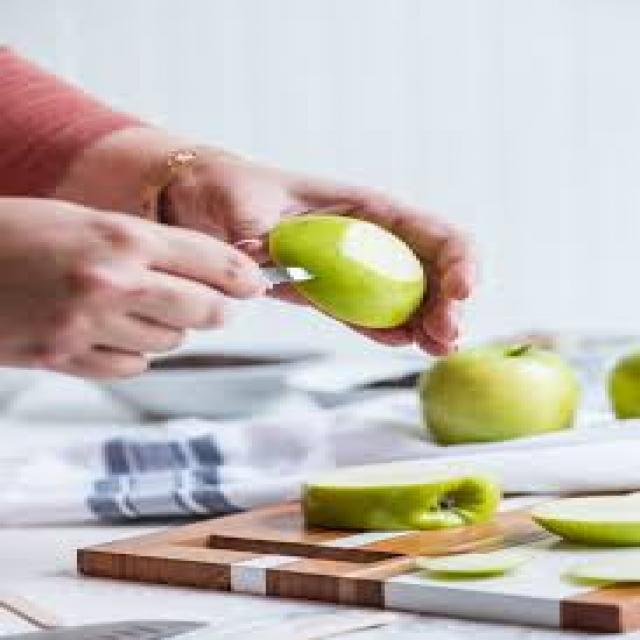Apple: (260, 212, 440, 330), (416, 340, 589, 450), (297, 470, 516, 535), (535, 497, 640, 548)
